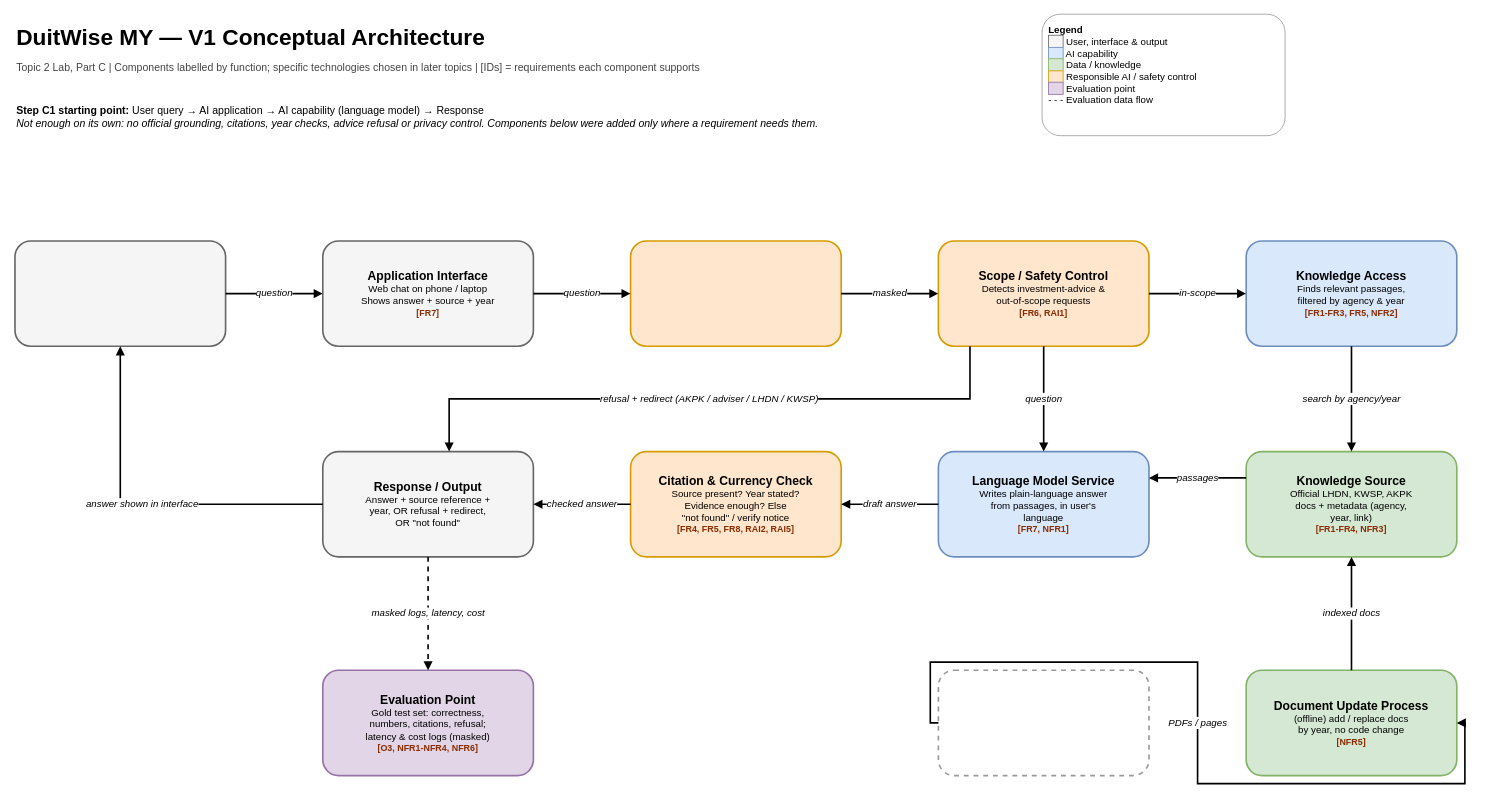
This 1486x805 diagram has some shape labels left out. Here are the shapes that lost their labels. From the top down, the centre of each, then its label:
At point (120, 293): "User Young working adult (English or BM question)".
At point (735, 293): "Privacy Control Masks IC, bank & phone numbers before model / logs [RAI3]".
At point (1043, 722): "Official Agency Websites hasil.gov.my, kwsp.gov.my, akpk.org.my (public docs)".
